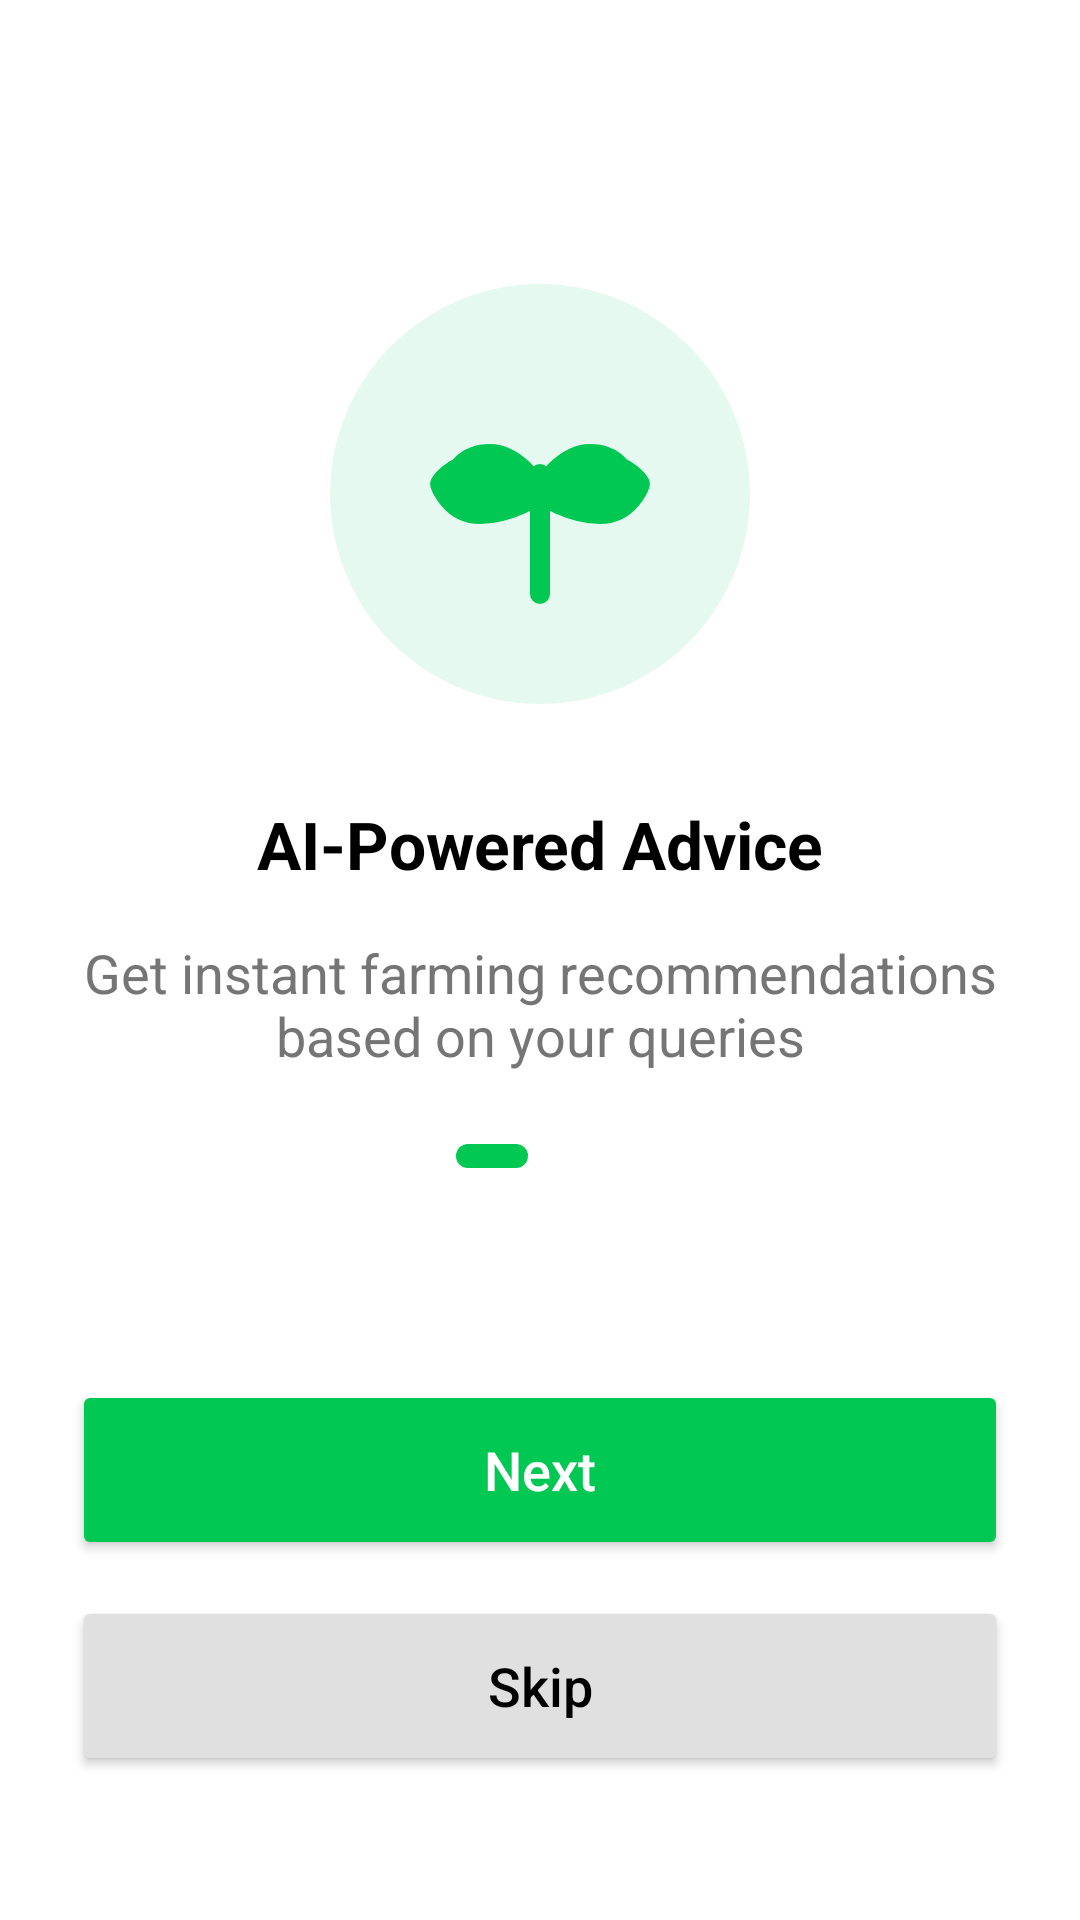

Where to tap for icons on this 1080*1920 app screen, as (x,y):
seedling: (540,524)
